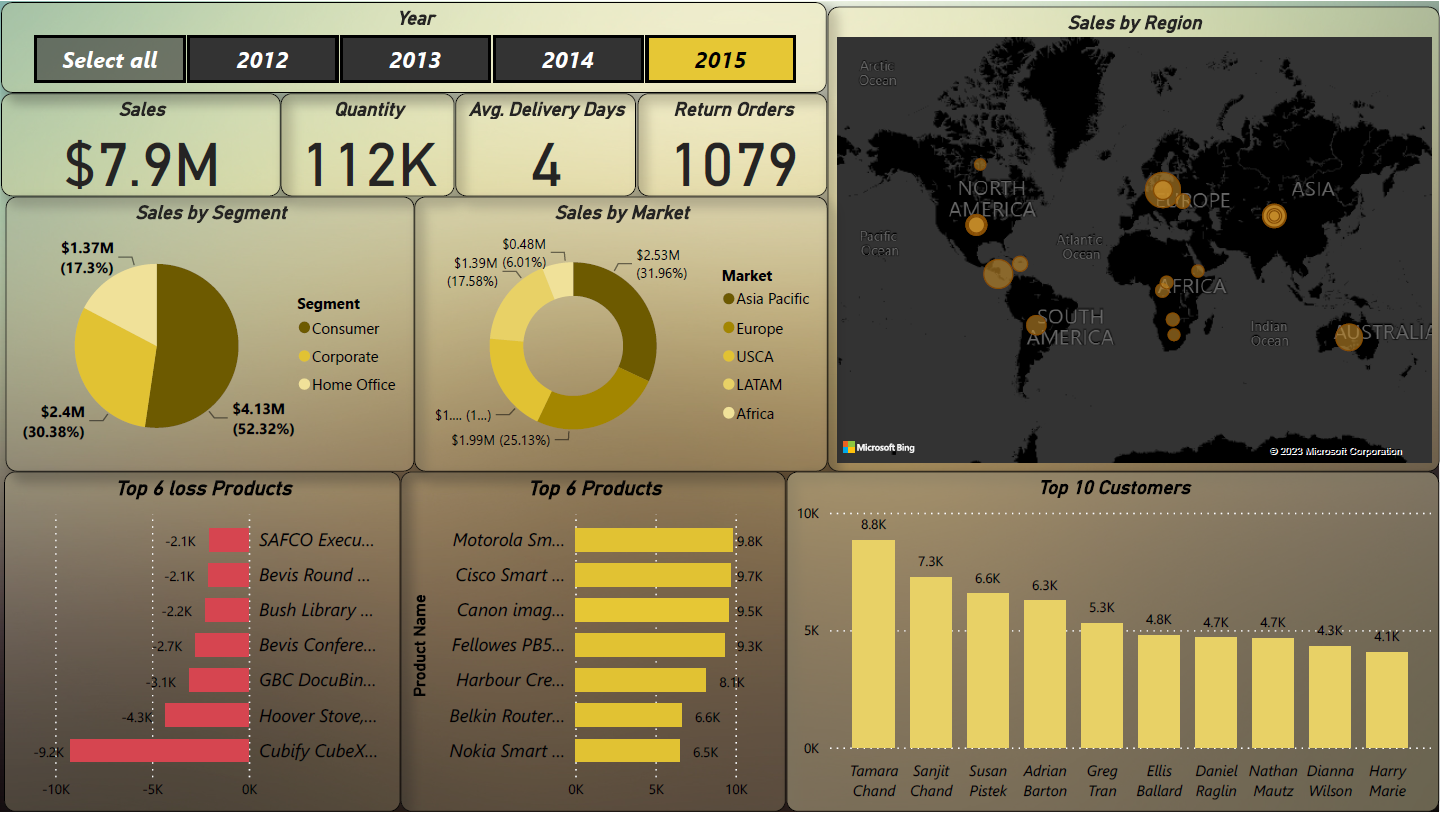

What the dashboard file says about the page in this screenshot:
{"tool":"powerbi","page":{"name":"Page 1","canvas":[1280,720],"ordinal":0},"visuals":[{"type":"card","title":"Sales","fields":{"Values":["Sum(Orders.Sales)"]},"box":[0,81.1,248.8,91.9],"z":0},{"type":"card","title":"Quantity","fields":{"Values":["Sum(Orders.Quantity)"]},"box":[248.8,81.1,155.5,91.9],"z":1000},{"type":"card","title":"Avg. Delivery Days","fields":{"Values":["Avg(Orders.Delivery Days)"]},"box":[404.2,81.1,160.9,91.9],"z":2000},{"type":"slicer","title":"Year","fields":{"Values":["Orders.Year"]},"box":[0,0,735.4,81.1],"z":3000},{"type":"card","title":"Return Orders ","fields":{"Values":["Sum(Returns.Return Oders)"]},"box":[566.5,81.1,169,91.9],"z":4000},{"type":"map","title":"Sales by Region","fields":{"Category":["Orders.Region"],"Size":["Sum(Orders.Sales)"]},"box":[735.4,4.1,544.8,413.7],"z":5000},{"type":"clusteredBarChart","title":"Top 6 Products","fields":{"Category":["Orders.Product Name"],"Y":["Sum(Orders.Profit)"]},"box":[355.6,417.7,343.4,302.8],"z":6000},{"type":"clusteredBarChart","title":"Top 6 loss Products","fields":{"Category":["Orders.Product Name"],"Y":["Sum(Orders.Profit)"]},"box":[2.7,417.7,352.9,302.8],"z":7000},{"type":"pieChart","title":"Sales by Segment","fields":{"Category":["Orders.Segment"],"Y":["Sum(Orders.Sales)"]},"box":[4.1,173,363.7,244.7],"z":8000},{"type":"donutChart","title":"Sales by Market","fields":{"Y":["Sum(Orders.Sales)"],"Category":["Orders.Market"]},"box":[367.7,173,367.7,244.7],"z":9000},{"type":"columnChart","title":"Top 10 Customers","fields":{"Category":["Orders.Customer Name"],"Y":["Sum(Orders.Profit)"]},"box":[698.9,417.7,581.3,302.8],"z":10000}]}

Visuals, with their boxes in screenshot pixels (x1, y1, x2, y2), scaled from the page's 1280x720 canvas onto the 1442x815 screenshot:
"Sales" card: 0:92:280:196
"Quantity" card: 280:92:455:196
"Avg. Delivery Days" card: 455:92:637:196
"Year" slicer: 0:0:828:92
"Return Orders " card: 638:92:829:196
"Sales by Region" map: 828:5:1441:473
"Top 6 Products" clusteredBarChart: 401:473:787:814
"Top 6 loss Products" clusteredBarChart: 3:473:401:814
"Sales by Segment" pieChart: 5:196:414:473
"Sales by Market" donutChart: 414:196:828:473
"Top 10 Customers" columnChart: 787:473:1441:814
